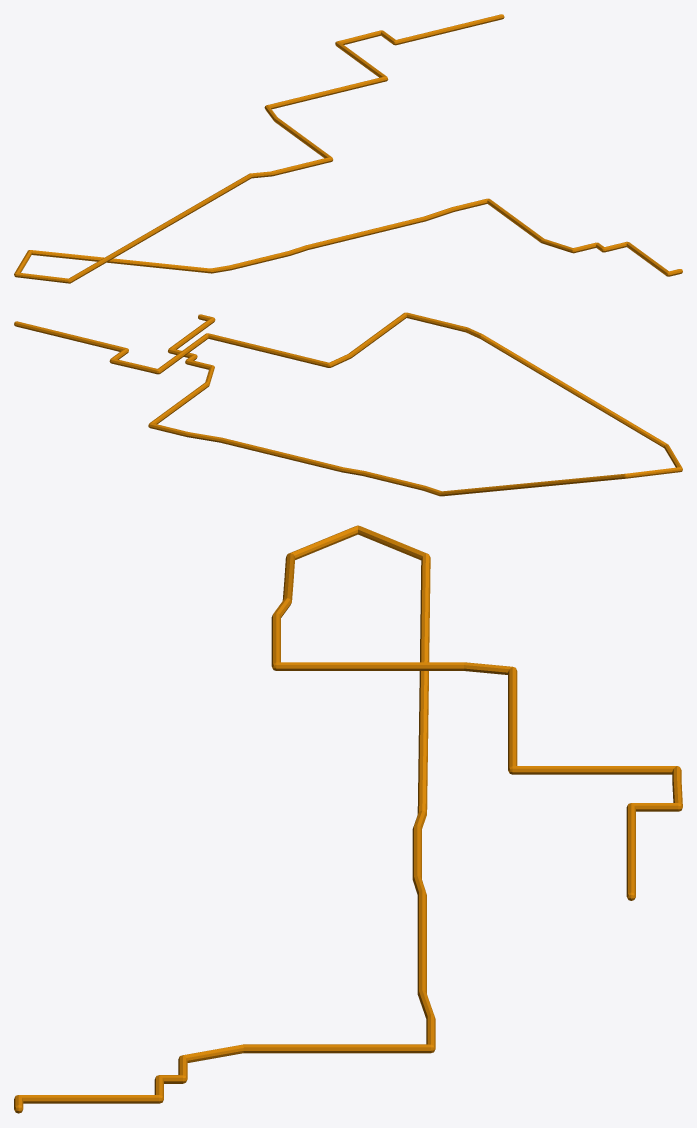
The picture shows the model from 3 angles, top to bottom: view 1: azimuth 30°, elevation 25°; view 2: azimuth 150°, elevation 25°; view 3: azimuth 270°, elevation 25°; orthographic projection. The views are drawn at different scales.
Size of the model in its own units: 2406 by 520 by 1426.
